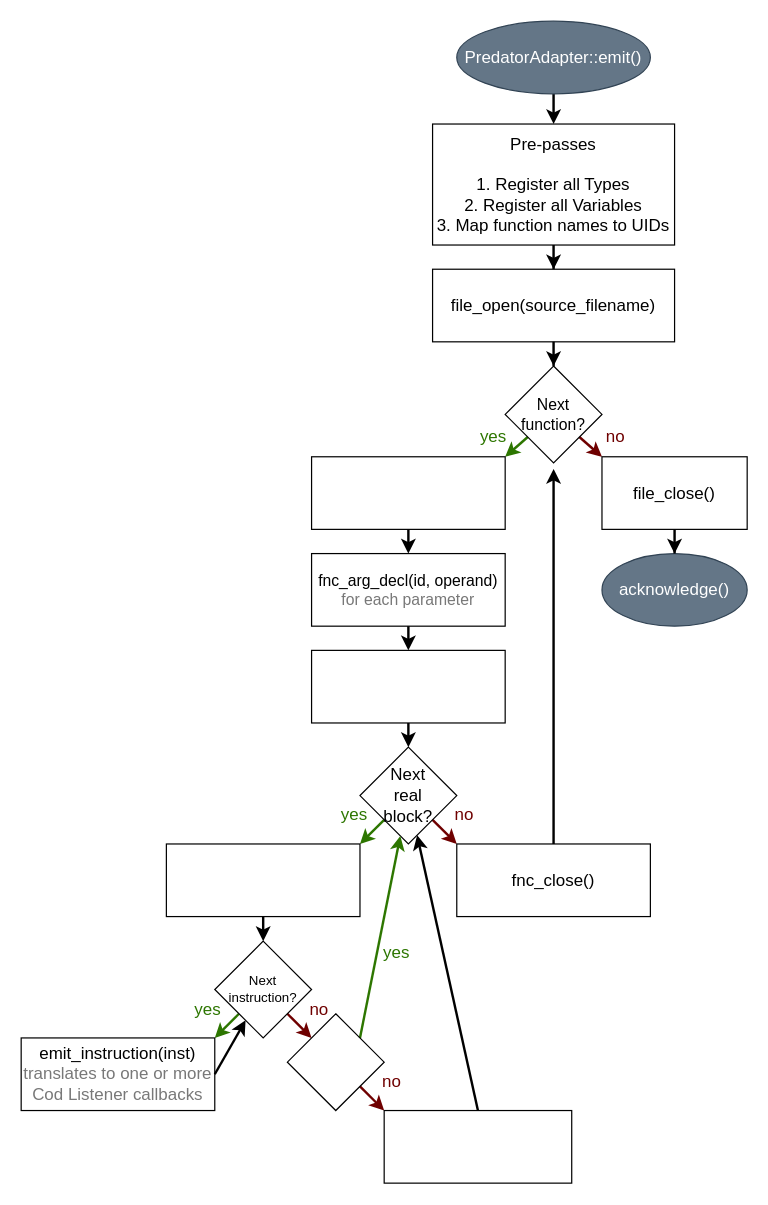
The diagram is 768 pixels wide and 1205 high, and some of its shapes have lost their labels. The centre of each missing label's shape, as x and y in pixels:
"bb_open(block_label)" belongs at point 262,880.
"Block has terminator?" belongs at point 335,1062.
"fnc_open(func_operand)" belongs at point 407,492.
"insn(CL_INSN_JMP) for first real block" belongs at point 407,686.
"synthesize fallthrough: insn(CL_INSN_JMP) or insn(CL_INSN_RET)" belongs at point 477,1146.
